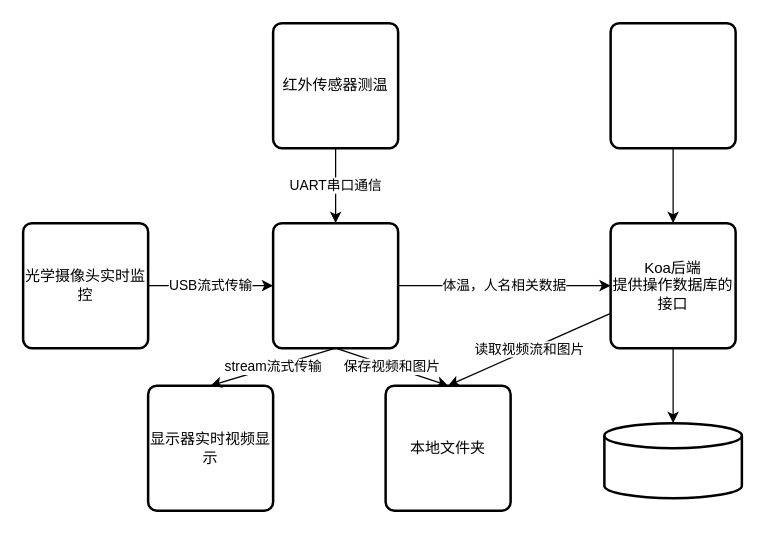
Image size: 764x533. Some labels were removed from this diagram. The shapes that lost their labels are listed below. From the top down, each one's centre as x and y in pixels, then its label:
At point (672, 85): "前端 疫情防控管理后台".
At point (335, 285): "Python算法模块 口罩检测 人脸识别 温度解码".
At point (672, 460): "MongoDB".
